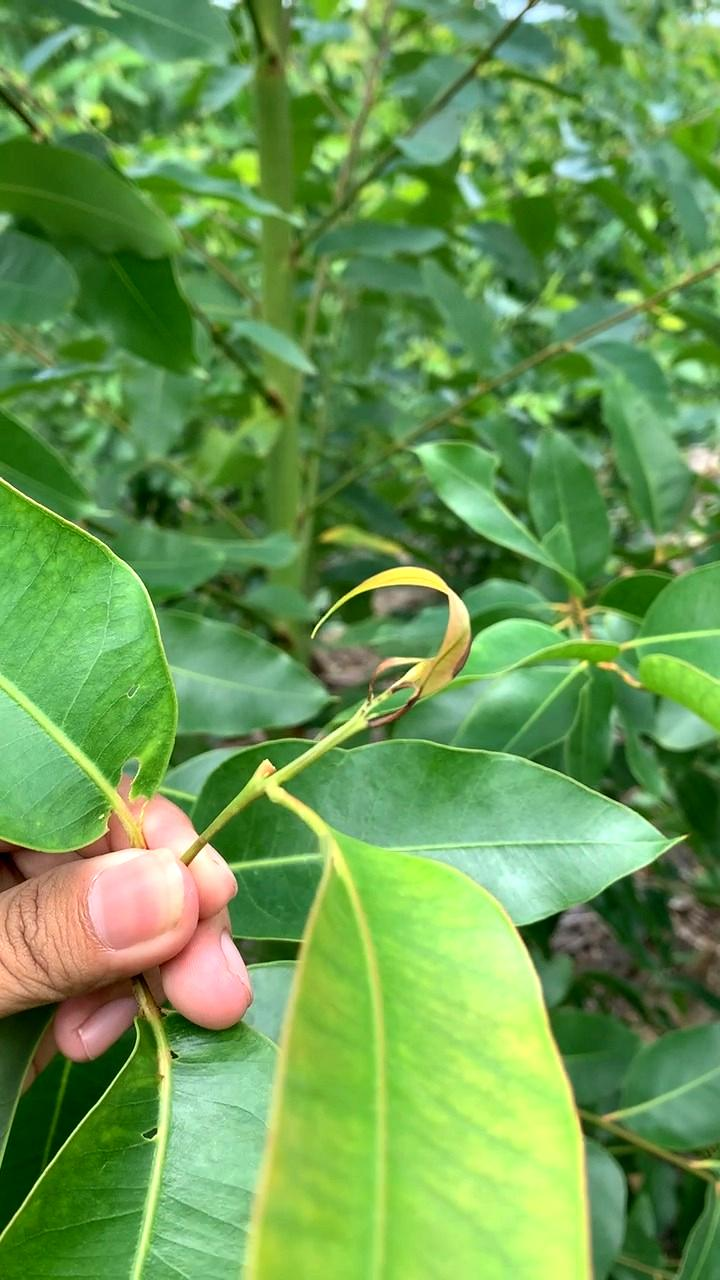Helopeltis-Withered Sprout: (306, 555, 477, 701)
